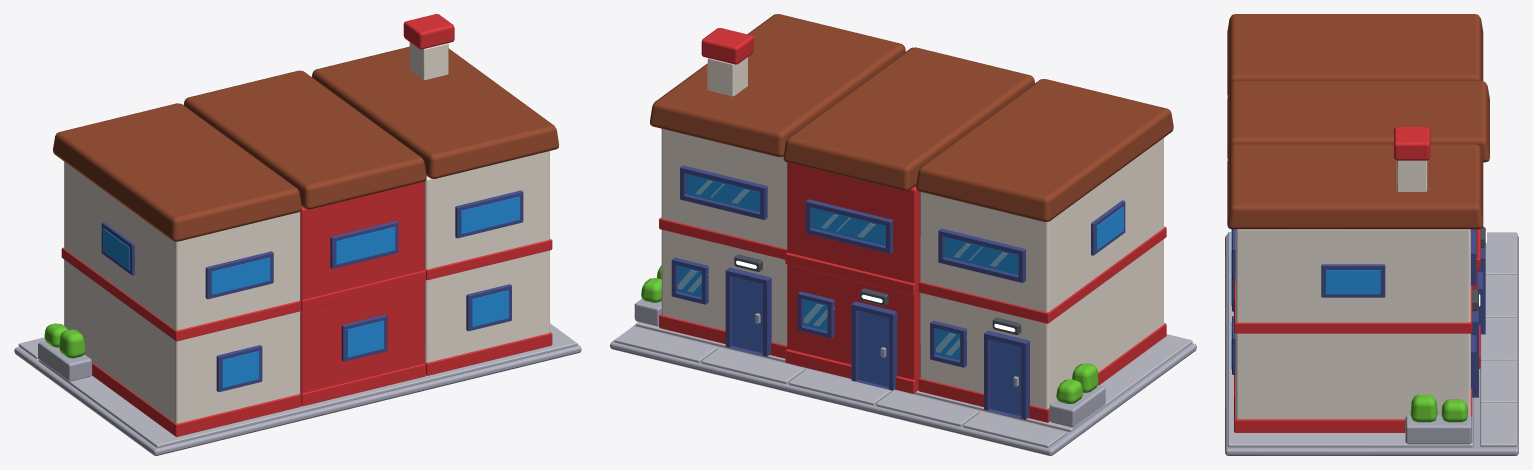
The model's file is Townhouse.glb.
3 views of the same model, side by side, from view 1: azimuth 30°, elevation 25°; view 2: azimuth 150°, elevation 25°; view 3: azimuth 270°, elevation 25° (orthographic). The views are drawn at different scales.
Parts seen in each view (by area): view 1: M_Townhouse_RoofBrown, M_Townhouse_HouseWall, M_Townhouse_ToyRed, M_Townhouse_TruckCab, M_Townhouse_Steel, M_Townhouse_PlaneFlap, M_Townhouse_RoofNavy, M_Townhouse_Leaves; view 2: M_Townhouse_RoofBrown, M_Townhouse_HouseWall, M_Townhouse_ToyRed, M_Townhouse_RoofNavy, M_Townhouse_PlaneFlap, M_Townhouse_Steel, M_Townhouse_TowerBlue, M_Townhouse_TruckCab, M_Townhouse_Leaves, M_Townhouse_Glass, M_Townhouse_ToyDark; view 3: M_Townhouse_RoofBrown, M_Townhouse_HouseWall, M_Townhouse_PlaneFlap, M_Townhouse_ToyRed, M_Townhouse_Steel, M_Townhouse_RoofNavy, M_Townhouse_TruckCab, M_Townhouse_Leaves.
Boxes of the visible parts, x1,y1,x2,y2 form: M_Townhouse_RoofBrown: (53, 46, 558, 241); M_Townhouse_HouseWall: (64, 42, 549, 423); M_Townhouse_ToyRed: (61, 14, 552, 436); M_Townhouse_TruckCab: (103, 196, 519, 387); M_Townhouse_Steel: (14, 340, 581, 455); M_Townhouse_PlaneFlap: (18, 323, 577, 448); M_Townhouse_RoofNavy: (101, 190, 523, 392); M_Townhouse_Leaves: (44, 323, 85, 358); M_Townhouse_RoofBrown: (650, 14, 1173, 221); M_Townhouse_HouseWall: (661, 57, 1163, 408); M_Townhouse_ToyRed: (659, 28, 1166, 422); M_Townhouse_RoofNavy: (671, 165, 1125, 419); M_Townhouse_PlaneFlap: (614, 322, 1192, 448); M_Townhouse_Steel: (610, 299, 1196, 455); M_Townhouse_TowerBlue: (732, 277, 1021, 416); M_Townhouse_TruckCab: (678, 174, 1123, 360); M_Townhouse_Leaves: (641, 265, 1098, 404); M_Townhouse_Glass: (677, 180, 1007, 355); M_Townhouse_ToyDark: (734, 254, 1021, 335); M_Townhouse_RoofBrown: (1227, 14, 1489, 229); M_Townhouse_HouseWall: (1235, 160, 1470, 419); M_Townhouse_PlaneFlap: (1227, 232, 1517, 447); M_Townhouse_ToyRed: (1234, 126, 1480, 432); M_Townhouse_Steel: (1225, 234, 1518, 455); M_Townhouse_RoofNavy: (1232, 229, 1485, 397); M_Townhouse_TruckCab: (1231, 229, 1380, 369); M_Townhouse_Leaves: (1410, 394, 1467, 422).
Bounding box in the file's own units: 19.2 × 12 × 11.
